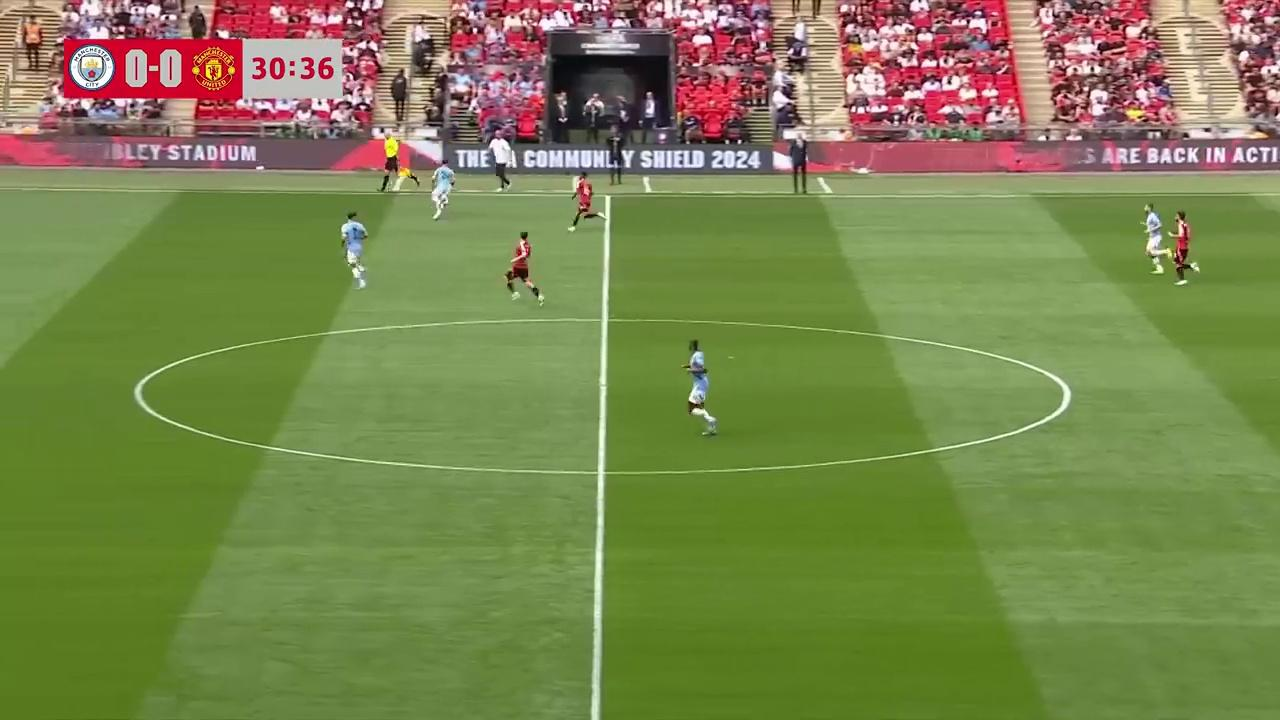player: (680, 338, 717, 437), (504, 231, 544, 305), (340, 211, 368, 288), (568, 172, 600, 232), (1141, 203, 1167, 272), (1170, 212, 1194, 285), (431, 164, 453, 220)
referee: (378, 129, 421, 192)
